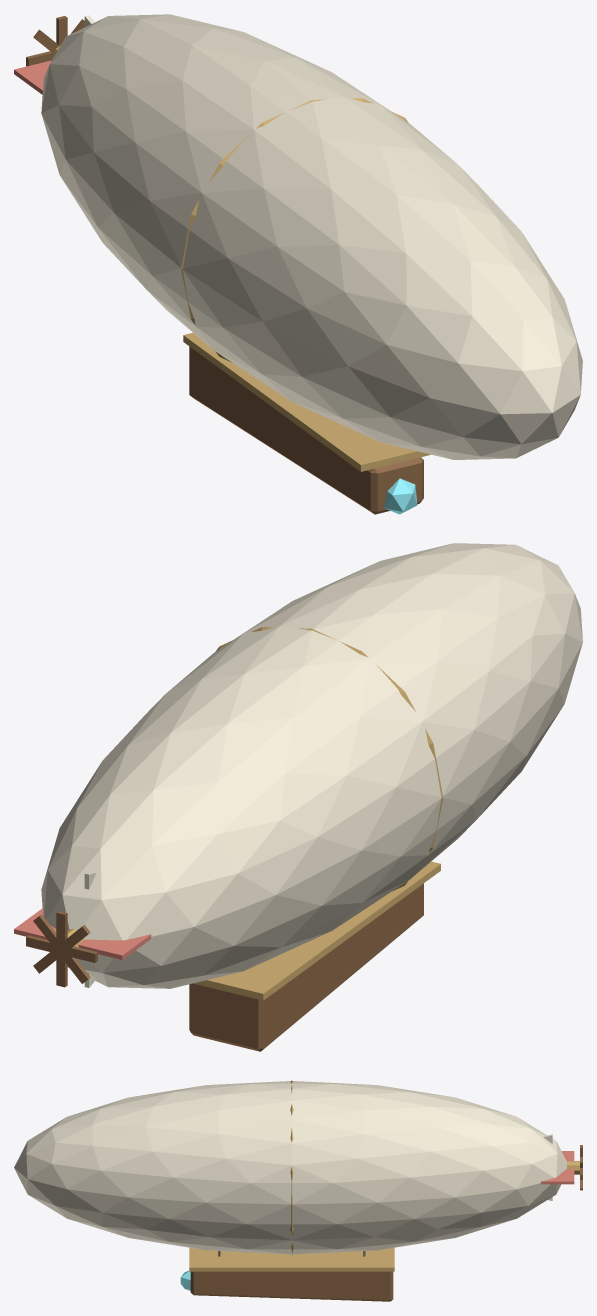
File: Cite_Dirigeable.fbx
3 renders of one model, top to bottom at view 1: azimuth 30°, elevation 25°; view 2: azimuth 150°, elevation 25°; view 3: azimuth 270°, elevation 25°, orthographic. The views are drawn at different scales.
Parts seen in each view (by area): view 1: Cite_Dirigeable_Enduit, Cite_Dirigeable_Bois, Cite_Dirigeable_Laiton, Cite_Dirigeable_Noyau, Cite_Dirigeable_Toile; view 2: Cite_Dirigeable_Enduit, Cite_Dirigeable_Bois, Cite_Dirigeable_Laiton, Cite_Dirigeable_Toile; view 3: Cite_Dirigeable_Enduit, Cite_Dirigeable_Bois, Cite_Dirigeable_Laiton, Cite_Dirigeable_Toile.
Part boxes in pixels (x1=…): Cite_Dirigeable_Enduit: x1=41, y1=14, x2=582, y2=459; Cite_Dirigeable_Bois: x1=26, y1=16, x2=423, y2=514; Cite_Dirigeable_Laiton: x1=52, y1=45, x2=430, y2=471; Cite_Dirigeable_Noyau: x1=384, y1=478, x2=417, y2=514; Cite_Dirigeable_Toile: x1=14, y1=60, x2=51, y2=94; Cite_Dirigeable_Enduit: x1=41, y1=543, x2=582, y2=988; Cite_Dirigeable_Bois: x1=26, y1=883, x2=423, y2=1051; Cite_Dirigeable_Laiton: x1=67, y1=627, x2=443, y2=1000; Cite_Dirigeable_Toile: x1=14, y1=908, x2=151, y2=959; Cite_Dirigeable_Enduit: x1=14, y1=1081, x2=566, y2=1254; Cite_Dirigeable_Bois: x1=190, y1=1145, x2=582, y2=1301; Cite_Dirigeable_Laiton: x1=189, y1=1080, x2=579, y2=1271; Cite_Dirigeable_Toile: x1=541, y1=1151, x2=574, y2=1184.
Bounding box in the file's own units: 12.1 × 15.55 × 39.3.
